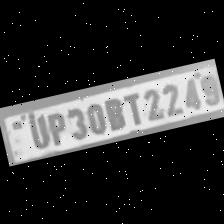0: (80, 99, 108, 136)
2: (156, 79, 184, 117), (139, 84, 166, 122)
3: (62, 103, 88, 140)
4: (176, 73, 203, 111)
9: (195, 70, 221, 106)
P: (42, 107, 69, 145)
T: (119, 88, 146, 127)
U: (23, 111, 51, 150)
